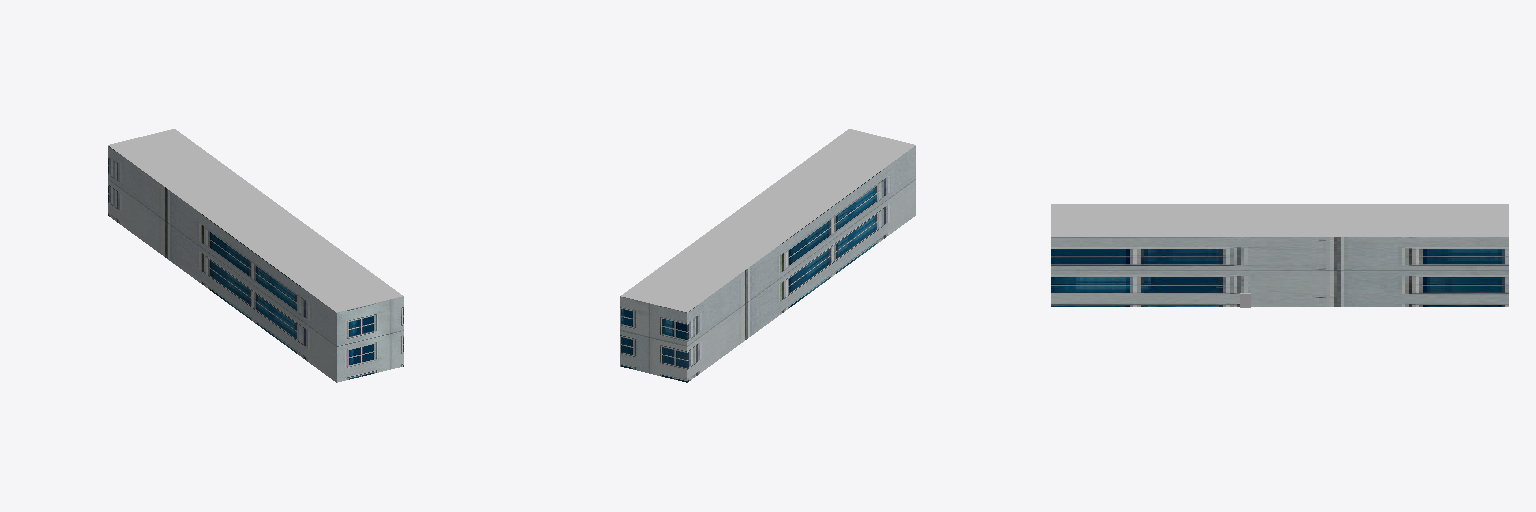
3 views of the same model, side by side, from view 1: azimuth 30°, elevation 25°; view 2: azimuth 150°, elevation 25°; view 3: azimuth 270°, elevation 25° (orthographic).
Parts seen in each view (by area): view 1: Cube.001; view 2: Cube.001; view 3: Cube.001.
Boxes of the visible parts, box(x1,y1,x2,y2) form: Cube.001: box(108, 129, 403, 382); Cube.001: box(620, 129, 915, 382); Cube.001: box(1051, 204, 1508, 306).
Size of the model in its own units: 10.81 by 10.8 by 63.2.
3 materials, 1 textured.